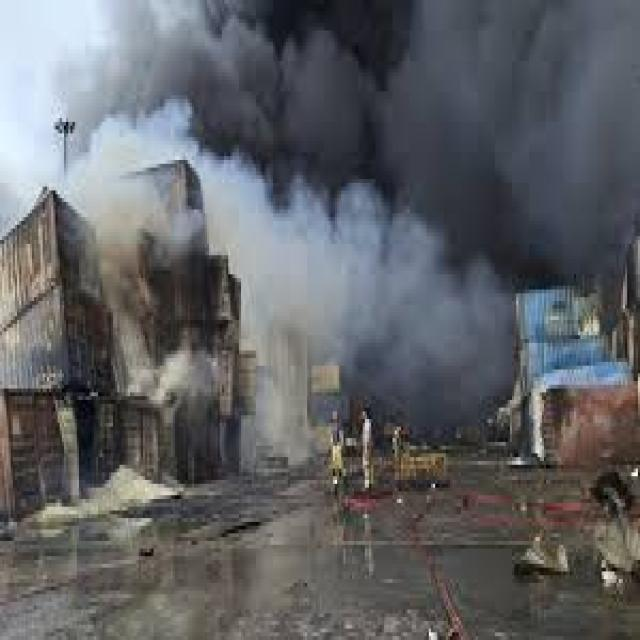explosion: (166, 0, 582, 548)
